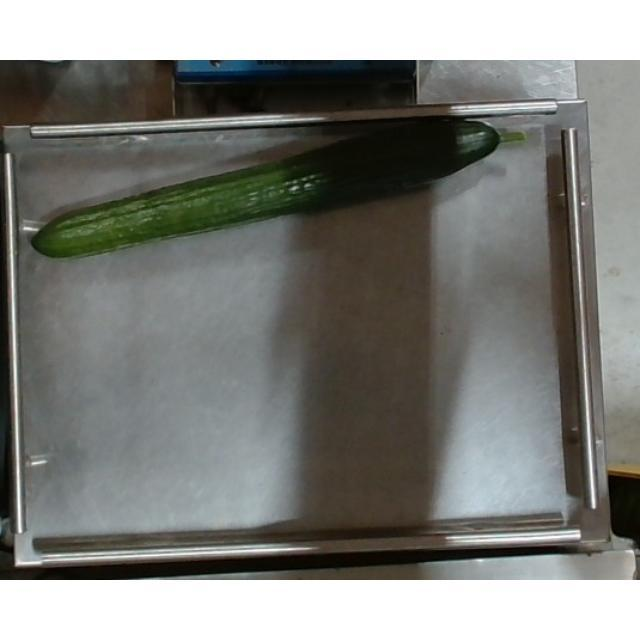cucumber: (26, 116, 512, 262)
